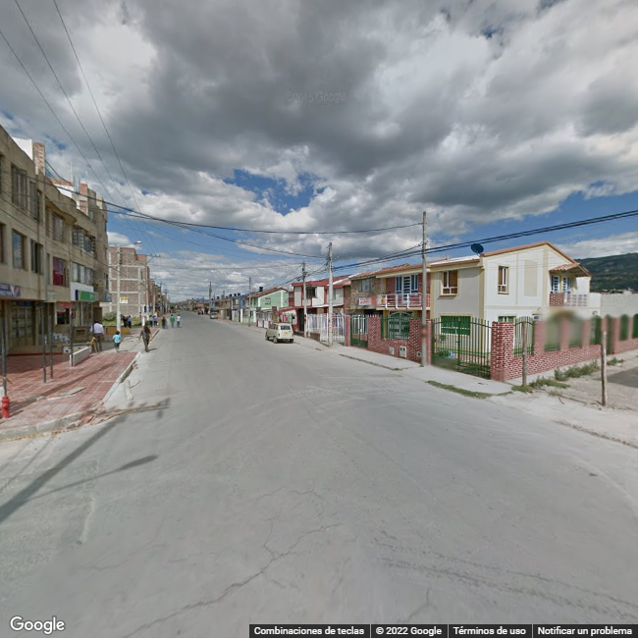D00: (266, 508, 279, 560)
D10: (129, 554, 281, 634), (288, 518, 341, 552)
